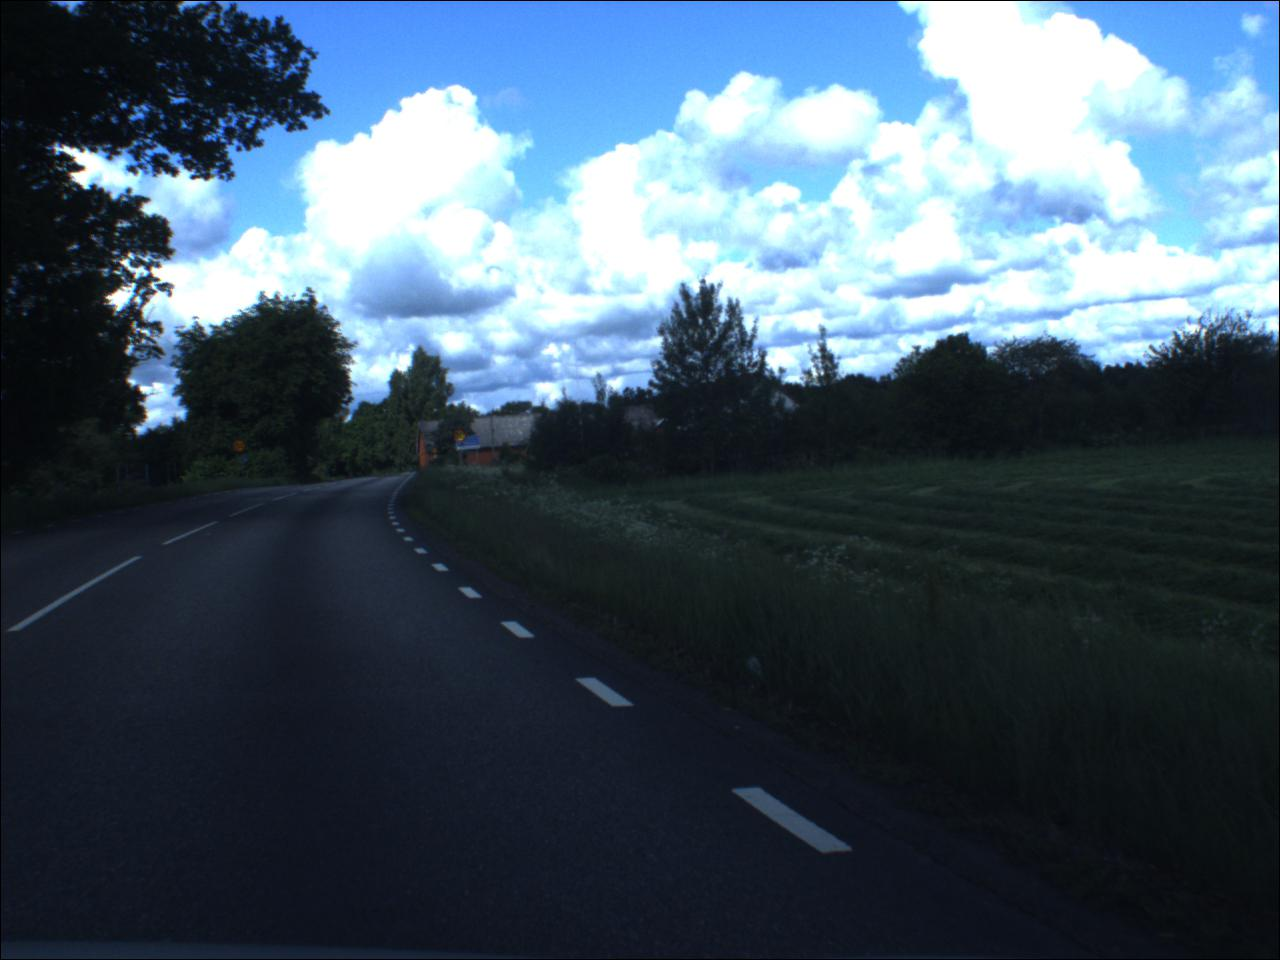50_SIGN: (454, 431, 469, 444), (235, 441, 246, 453)
